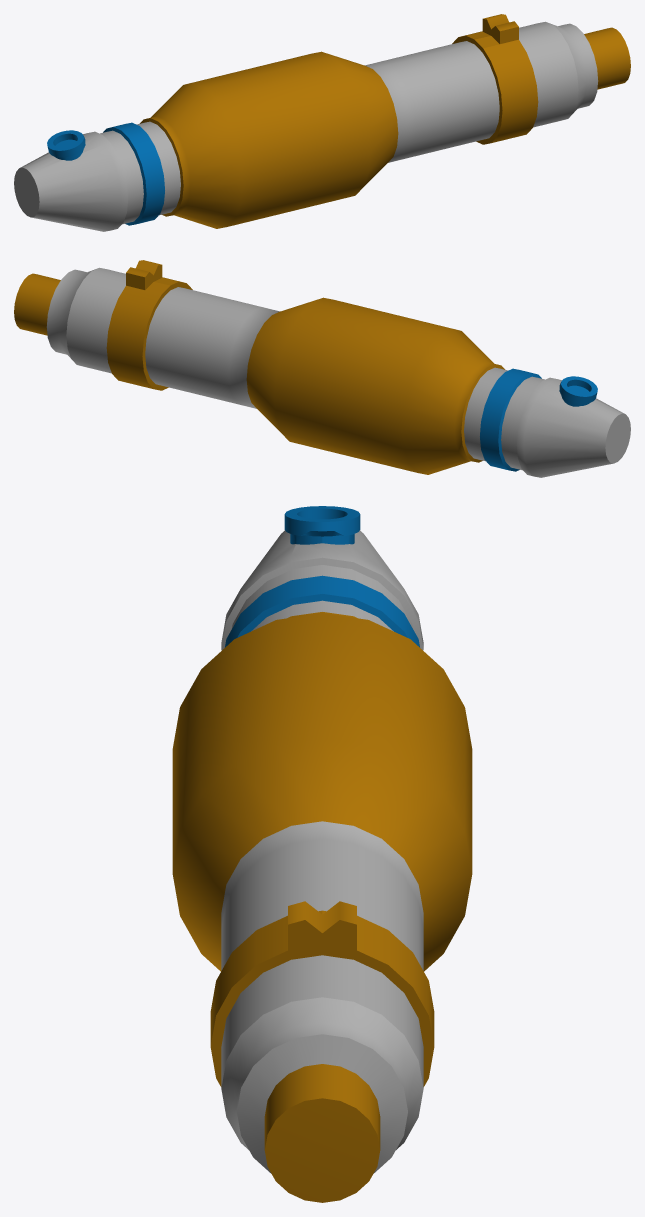
The model's file is Gun.fbx.
3 views of the same model, one above another, from view 1: azimuth 30°, elevation 25°; view 2: azimuth 150°, elevation 25°; view 3: azimuth 270°, elevation 25° (orthographic). The views are drawn at different scales.
Parts seen in each view (by area): view 1: Gun; view 2: Gun; view 3: Gun.
Boxes of the visible parts, bbox=[...] form: Gun: bbox=[14, 14, 630, 231]; Gun: bbox=[14, 260, 630, 477]; Gun: bbox=[172, 506, 472, 1202].
Bounding box in the file's own units: 25.5 × 5.6 × 5.6.
